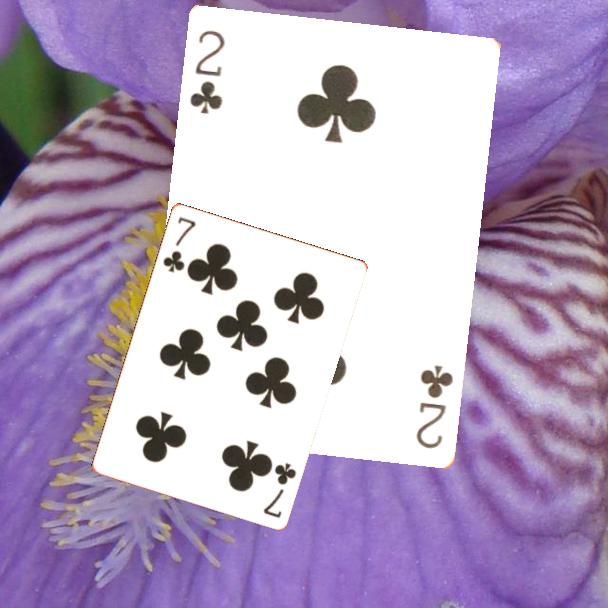c02: (413, 362, 457, 452), (186, 27, 228, 118)
c07: (159, 213, 199, 275), (260, 459, 299, 521)
